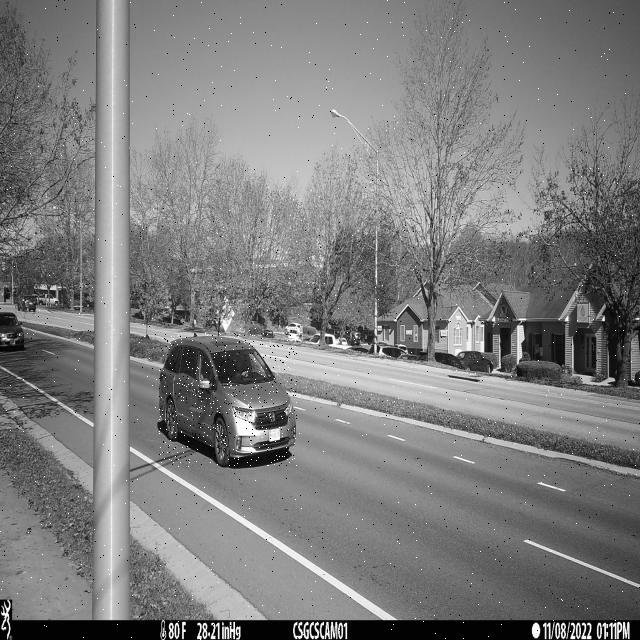Van: (158, 333, 297, 467)
